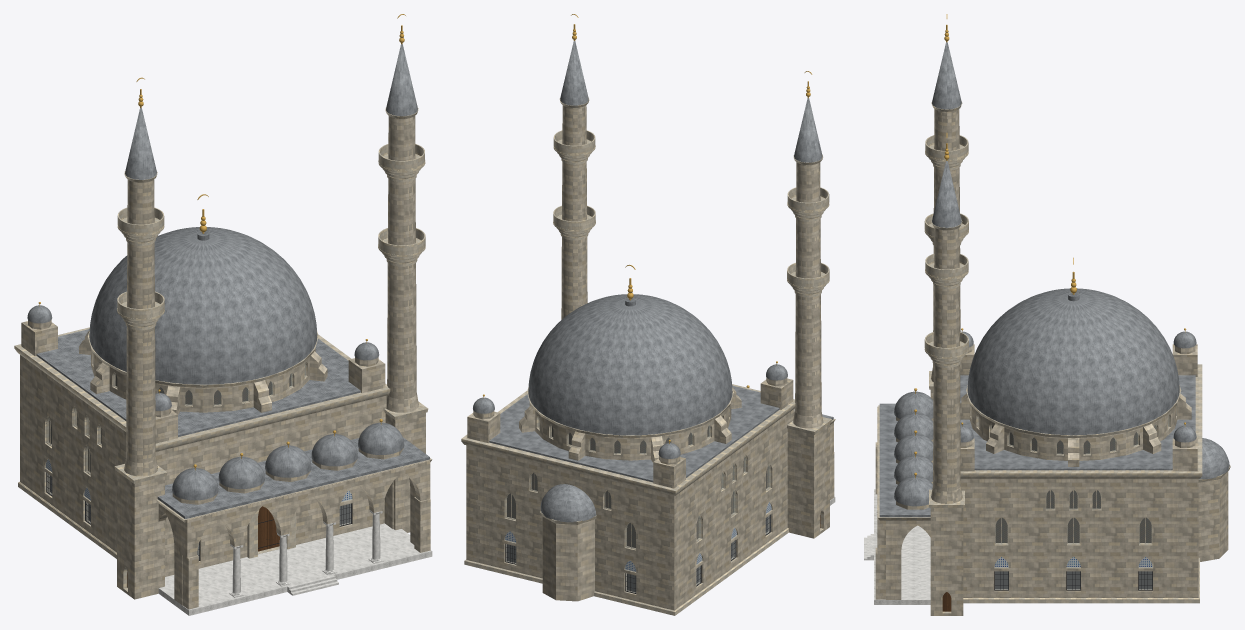
The model's file is mosque-cc0.glb.
The picture shows the model from 3 angles, left to right: view 1: azimuth 30°, elevation 25°; view 2: azimuth 150°, elevation 25°; view 3: azimuth 270°, elevation 25°; orthographic projection. The views are drawn at different scales.
Parts seen in each view (by area): view 1: Main dome, Prayer hall, Minarets, Portico, Portico domes, Roof, Minaret balconies, Cornices, Dome drum, Corner turrets, Minaret caps, Dome buttresses (+6 smaller); view 2: Prayer hall, Main dome, Minarets, Mihrab bay, Roof, Dome drum, Minaret balconies, Corner turrets, Cornices, Minaret caps, Glazing, Plinth (+2 smaller); view 3: Prayer hall, Main dome, Minarets, Portico, Dome drum, Roof, Portico domes, Mihrab bay, Cornices, Minaret balconies, Corner turrets, Glazing (+4 smaller).
Part boxes in pixels (x1=…): Main dome: x1=89, y1=227, x2=317, y2=384; Prayer hall: x1=20, y1=355, x2=386, y2=576; Minarets: x1=114, y1=107, x2=428, y2=599; Portico: x1=157, y1=437, x2=432, y2=615; Portico domes: x1=172, y1=422, x2=404, y2=504; Roof: x1=36, y1=329, x2=360, y2=436; Minaret balconies: x1=117, y1=144, x2=425, y2=330; Cornices: x1=14, y1=327, x2=432, y2=522; Dome drum: x1=88, y1=331, x2=318, y2=412; Corner turrets: x1=21, y1=305, x2=385, y2=443; Minaret caps: x1=125, y1=44, x2=417, y2=179; Dome buttresses: x1=79, y1=331, x2=327, y2=414; Prayer hall: x1=466, y1=409, x2=794, y2=610; Main dome: x1=528, y1=294, x2=732, y2=435; Minarets: x1=559, y1=97, x2=831, y2=538; Mihrab bay: x1=540, y1=484, x2=596, y2=601; Roof: x1=489, y1=385, x2=779, y2=482; Dome drum: x1=527, y1=387, x2=733, y2=460; Minaret balconies: x1=553, y1=130, x2=829, y2=297; Corner turrets: x1=467, y1=364, x2=793, y2=488; Cornices: x1=461, y1=384, x2=835, y2=495; Minaret caps: x1=560, y1=41, x2=822, y2=162; Glazing: x1=506, y1=417, x2=770, y2=592; Plinth: x1=464, y1=528, x2=788, y2=615; Prayer hall: x1=960, y1=478, x2=1198, y2=597; Main dome: x1=967, y1=288, x2=1179, y2=435; Minarets: x1=929, y1=102, x2=964, y2=615; Portico: x1=864, y1=403, x2=930, y2=604; Dome drum: x1=966, y1=385, x2=1181, y2=460; Roof: x1=960, y1=375, x2=1195, y2=470; Portico domes: x1=894, y1=391, x2=933, y2=509; Mihrab bay: x1=1198, y1=438, x2=1230, y2=561; Cornices: x1=878, y1=364, x2=1202, y2=520; Minaret balconies: x1=924, y1=135, x2=968, y2=367; Corner turrets: x1=960, y1=331, x2=1197, y2=471; Glazing: x1=978, y1=416, x2=1168, y2=589.
Size of the model in its own units: 33.84 by 54.7 by 38.19.
Materials: 11 (11 with a texture image).
